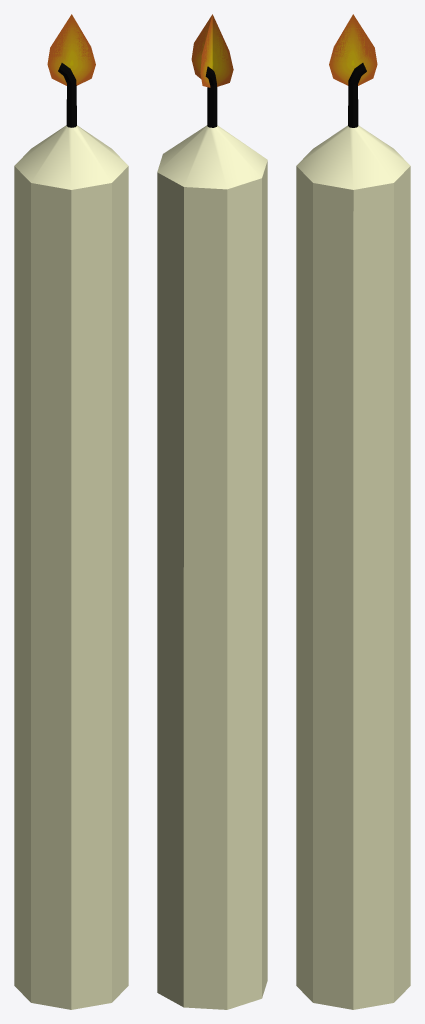
File: candleExported.fbx
3 renders of one model, left to right at view 1: azimuth 90°, elevation 25°; view 2: azimuth 150°, elevation 25°; view 3: azimuth 270°, elevation 25°, orthographic.
Visible parts, largest first — view 1: pCube2; view 2: pCube2; view 3: pCube2.
Part boxes in pixels (<box>): pCube2: <box>14,14,128,1009</box>; pCube2: <box>157,14,267,1009</box>; pCube2: <box>296,14,410,1009</box>.
Size of the model in its own units: 0.0379 by 0.3556 by 0.0379.
